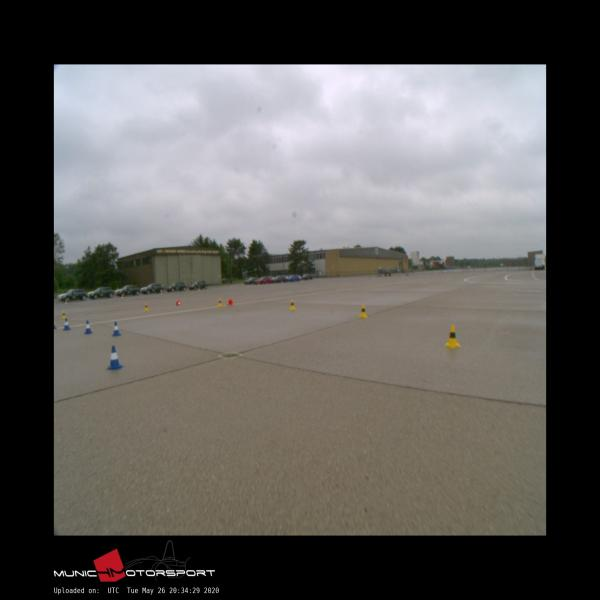blue_cone: (107, 346, 123, 370), (112, 322, 121, 336), (84, 320, 92, 334), (62, 318, 70, 330)
yellow_cone: (446, 326, 462, 348), (359, 304, 367, 317), (290, 300, 296, 309), (218, 298, 222, 307), (144, 303, 149, 310), (62, 310, 66, 318)
